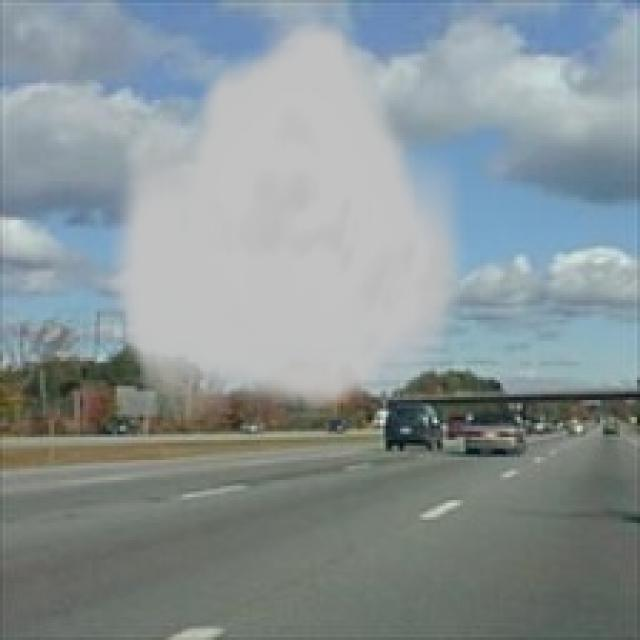smoke: (109, 6, 474, 420)
